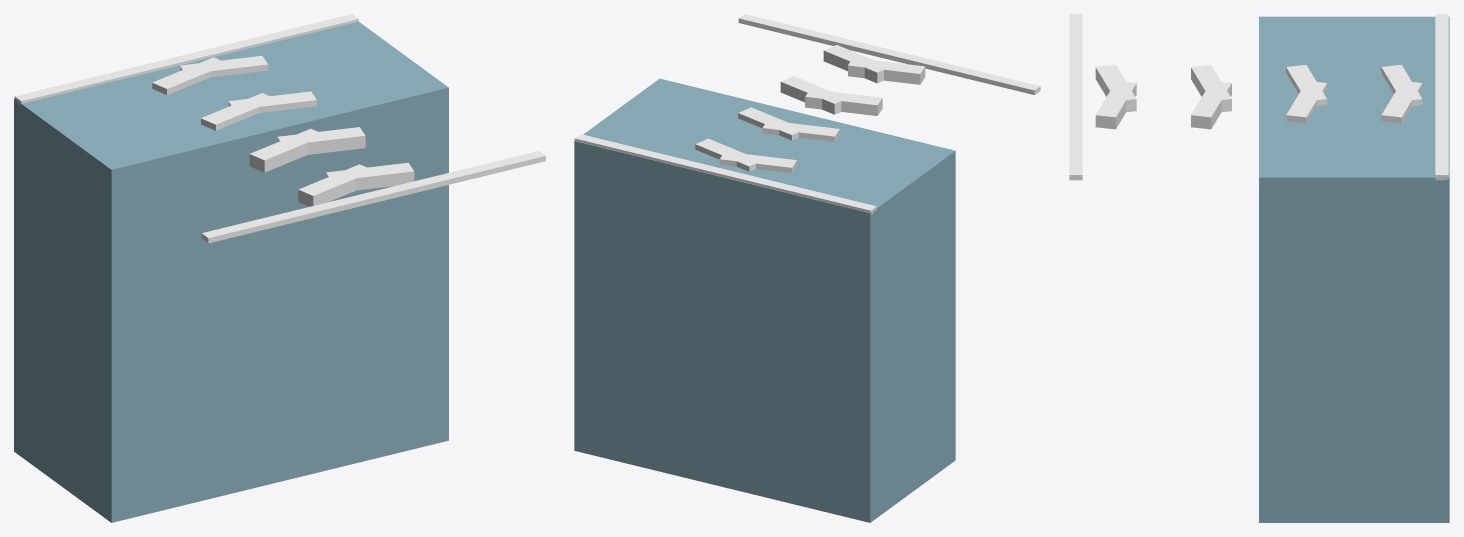
File: ThinConveyor_VerticalSlab.glb
3 views of the same model, side by side, from view 1: azimuth 30°, elevation 25°; view 2: azimuth 150°, elevation 25°; view 3: azimuth 270°, elevation 25° (orthographic). The views are drawn at different scales.
Visible parts, largest first — view 1: ThinConveyor_VerticalSlab_body, rail_-0.008, rail_0.008, chev_1_1.008, chev_0_1.008, chev_1_-1.008, chev_0_-1.008, chev_3_-1.008, chev_2_1.008, chev_2_-1.008, chev_3_1.008; view 2: ThinConveyor_VerticalSlab_body, rail_-0.008, rail_0.008, chev_0_1.008, chev_1_1.008, chev_1_-1.008, chev_3_1.008, chev_2_1.008, chev_0_-1.008, chev_3_-1.008, chev_2_-1.008; view 3: ThinConveyor_VerticalSlab_body, rail_-0.008, rail_0.008, chev_0_-1.008, chev_1_-1.008, chev_0_1.008, chev_1_1.008, chev_2_-1.008, chev_3_-1.008, chev_2_1.008, chev_3_1.008.
Boxes of the visible parts, box(x1,y1,x2,y2) form: ThinConveyor_VerticalSlab_body: box(14, 21, 448, 522); rail_-0.008: box(201, 151, 545, 243); rail_0.008: box(14, 14, 358, 105); chev_1_1.008: box(249, 128, 325, 172); chev_0_1.008: box(298, 164, 373, 206); chev_1_-1.008: box(277, 127, 365, 154); chev_0_-1.008: box(326, 162, 414, 190); chev_3_-1.008: box(180, 55, 268, 77); chev_2_1.008: box(201, 93, 276, 130); chev_2_-1.008: box(228, 91, 316, 112); chev_3_1.008: box(152, 57, 227, 94); ThinConveyor_VerticalSlab_body: box(574, 78, 955, 522); rail_-0.008: box(738, 14, 1040, 94); rail_0.008: box(574, 134, 876, 214); chev_0_1.008: box(848, 58, 925, 84); chev_1_1.008: box(805, 89, 882, 115); chev_1_-1.008: box(780, 76, 847, 114); chev_3_1.008: box(719, 151, 797, 173); chev_2_1.008: box(762, 120, 839, 141); chev_0_-1.008: box(823, 45, 883, 83); chev_3_-1.008: box(695, 138, 760, 171); chev_2_-1.008: box(738, 107, 804, 140); ThinConveyor_VerticalSlab_body: box(1259, 16, 1449, 522); rail_-0.008: box(1069, 14, 1082, 180); rail_0.008: box(1435, 14, 1448, 180); chev_0_-1.008: box(1095, 81, 1136, 129); chev_1_-1.008: box(1191, 81, 1231, 129); chev_0_1.008: box(1095, 64, 1136, 112); chev_1_1.008: box(1191, 64, 1231, 112); chev_2_-1.008: box(1286, 81, 1327, 123); chev_3_-1.008: box(1381, 81, 1422, 123); chev_2_1.008: box(1286, 65, 1327, 106); chev_3_1.008: box(1381, 64, 1422, 106).
Bounding box in the file's own units: 1 × 1.02 × 0.9975.
